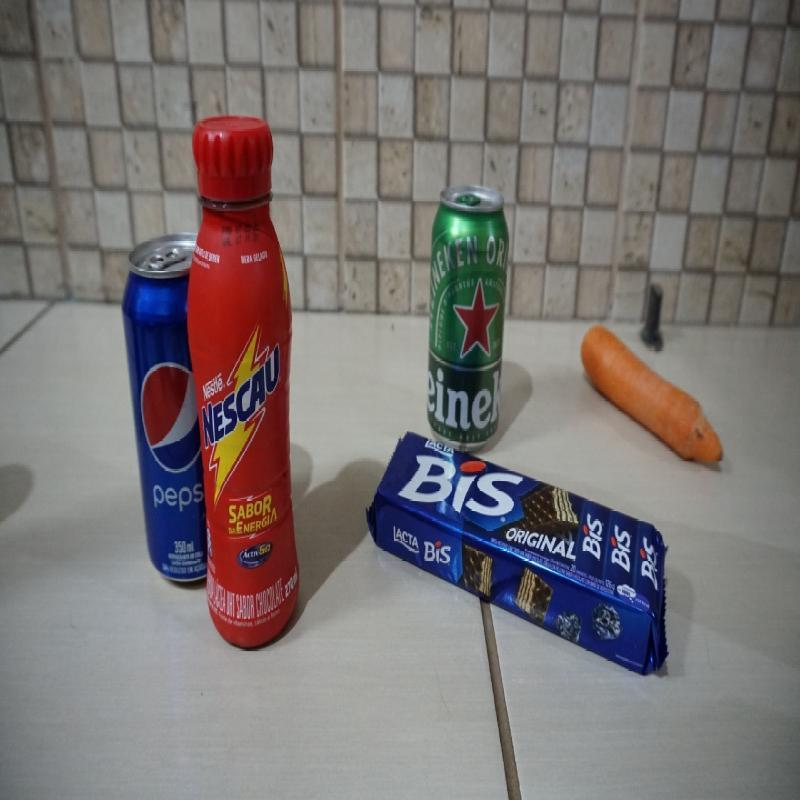Beer can: (427, 182, 511, 452)
Carrot: (580, 327, 724, 470)
Chocolate Milk: (186, 114, 300, 650)
Soda can: (119, 232, 208, 588)
